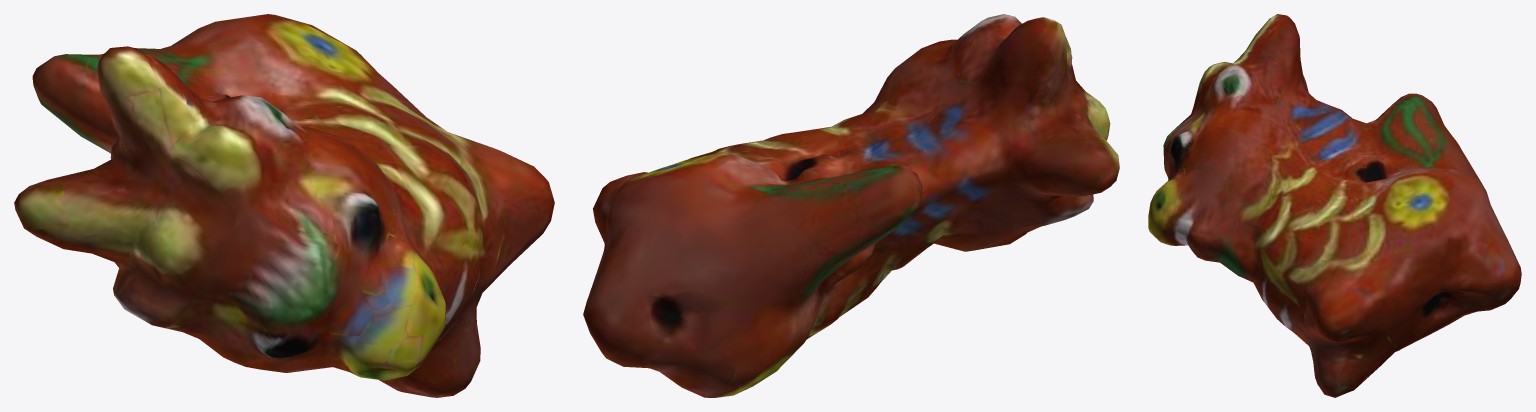
The model's file is hall.glb.
The picture shows the model from 3 angles, left to right: view 1: azimuth 30°, elevation 25°; view 2: azimuth 150°, elevation 25°; view 3: azimuth 270°, elevation 25°; orthographic projection. The views are drawn at different scales.
Bounding box in the file's own units: 0.4556 × 0.3577 × 0.4415.
Materials: 1 (1 with a texture image).
